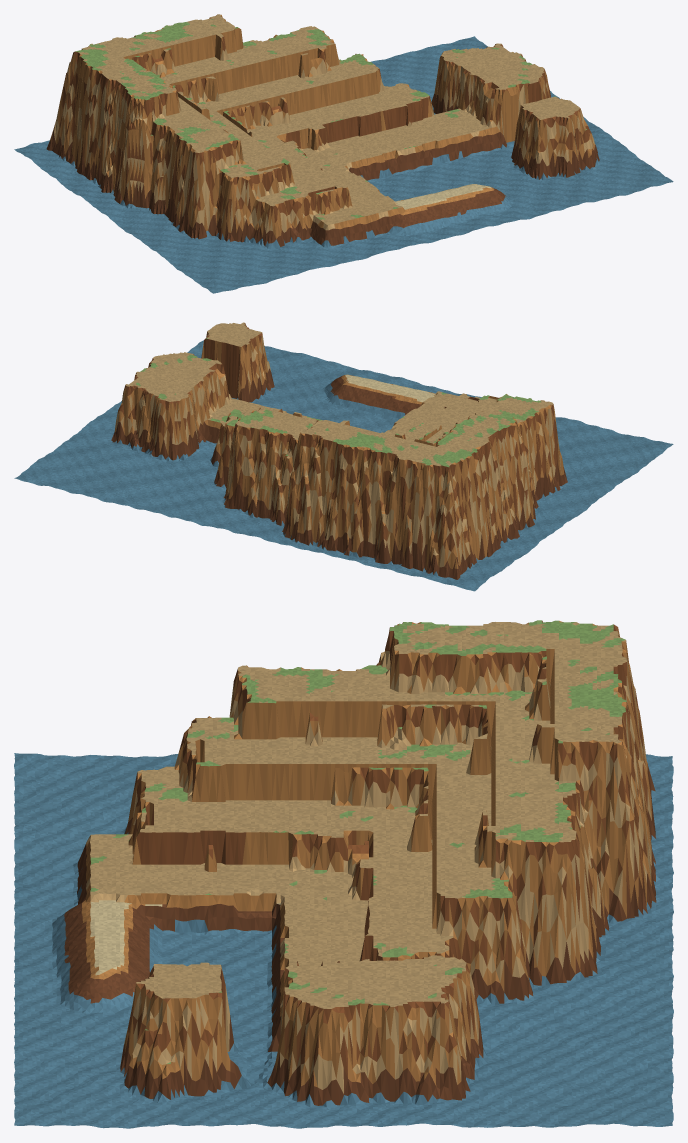
File: terrain.glb
The picture shows the model from 3 angles, top to bottom: view 1: azimuth 30°, elevation 25°; view 2: azimuth 150°, elevation 25°; view 3: azimuth 270°, elevation 25°; orthographic projection. The views are drawn at different scales.
Visible parts, largest first — view 1: LT_TERRAIN; view 2: LT_TERRAIN; view 3: LT_TERRAIN.
Boxes of the visible parts, x1=… form: LT_TERRAIN: x1=14, y1=14, x2=673, y2=293; LT_TERRAIN: x1=14, y1=322, x2=673, y2=591; LT_TERRAIN: x1=14, y1=620, x2=673, y2=1128.
Bounding box in the file's own units: 104 × 21.95 × 78.22.
